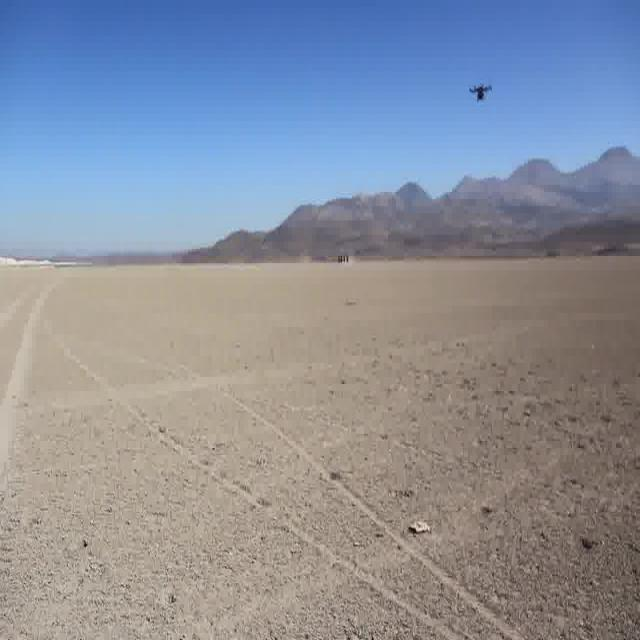drones: (462, 73, 496, 108)
